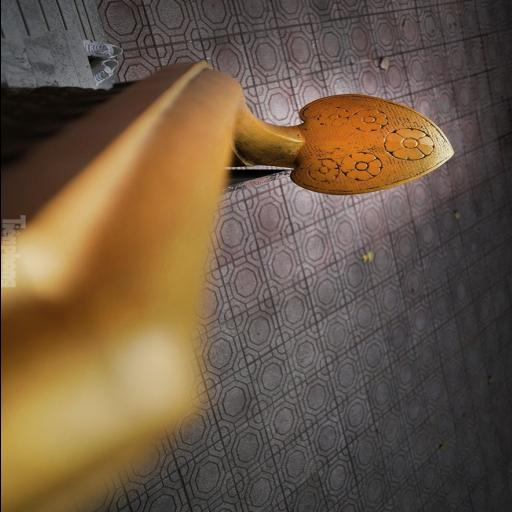ran: (0, 43, 470, 512)
